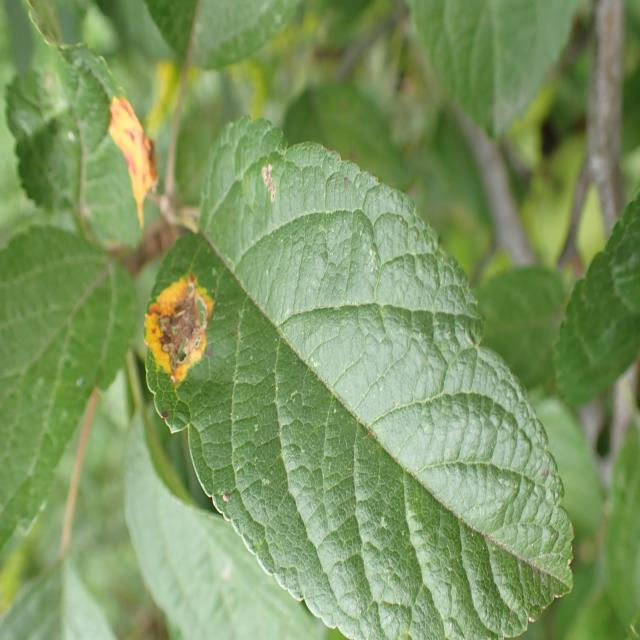rust: (141, 112, 576, 640)
